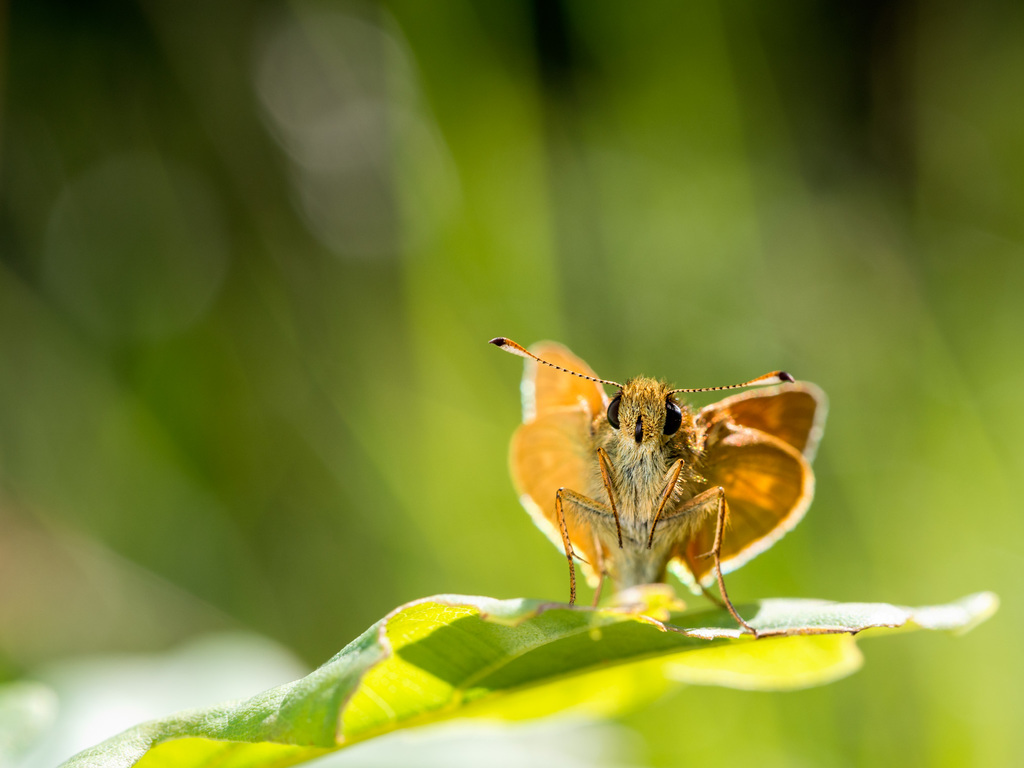Butterfly: (488, 325, 827, 636)
